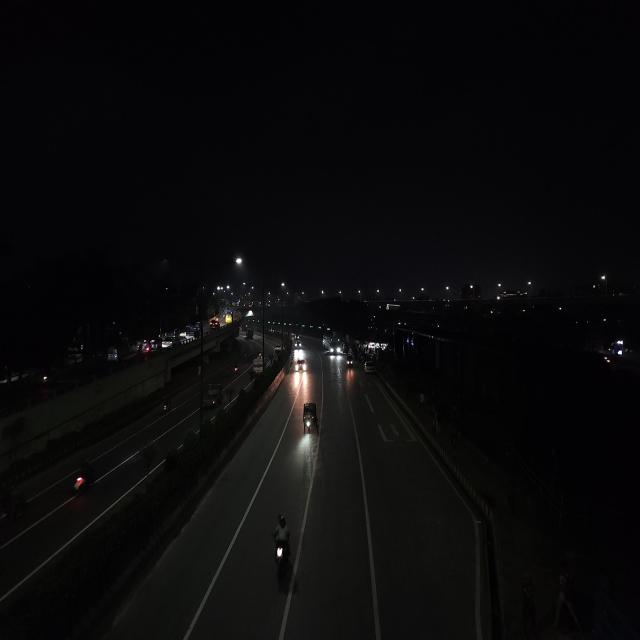car: (363, 358, 377, 376), (295, 359, 307, 375), (160, 338, 173, 352), (209, 317, 221, 330), (274, 342, 284, 355)
cng: (300, 398, 321, 436), (106, 342, 125, 364), (345, 354, 354, 369)
motorcycle: (266, 510, 298, 588), (70, 458, 96, 498), (160, 396, 171, 416), (232, 360, 240, 374)
pickup_van: (202, 380, 224, 409), (186, 326, 200, 341)
truck: (252, 359, 263, 373)
